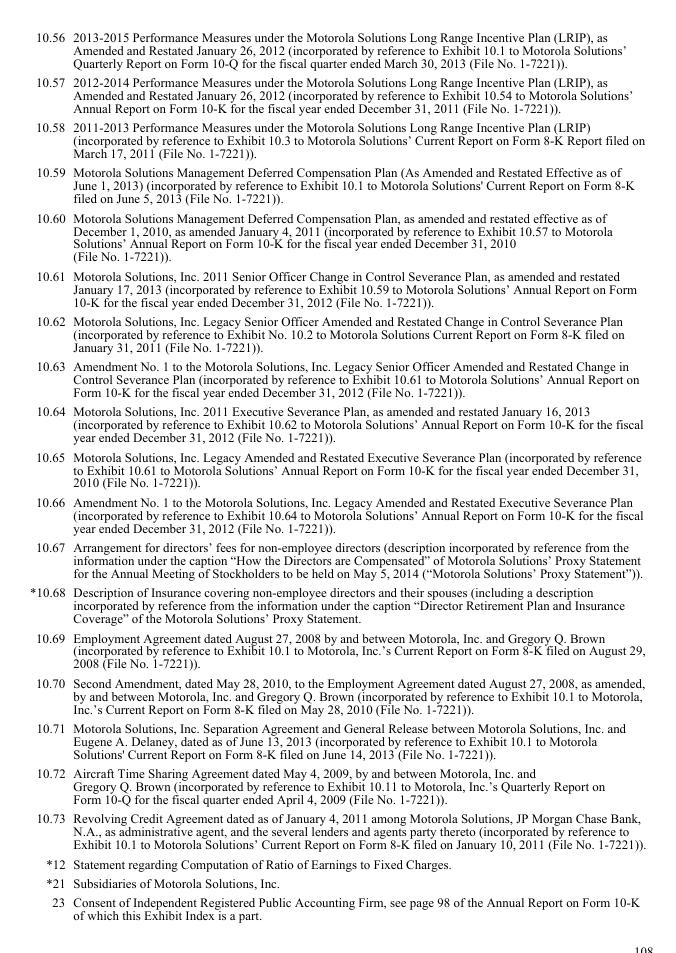table: (29, 29, 645, 922)
table column: (68, 29, 645, 922), (29, 29, 68, 922)
table row: (29, 207, 645, 265), (29, 71, 645, 117), (29, 310, 645, 356), (29, 491, 645, 537), (29, 717, 645, 763), (29, 117, 645, 162), (29, 162, 645, 207), (29, 265, 645, 310), (29, 356, 645, 401), (29, 401, 645, 446), (29, 446, 645, 491), (29, 537, 645, 582), (29, 582, 645, 627), (29, 627, 645, 672), (29, 672, 645, 717), (29, 763, 645, 808), (29, 808, 645, 853), (29, 29, 645, 71), (29, 892, 645, 922), (29, 872, 645, 892), (29, 853, 645, 872)
